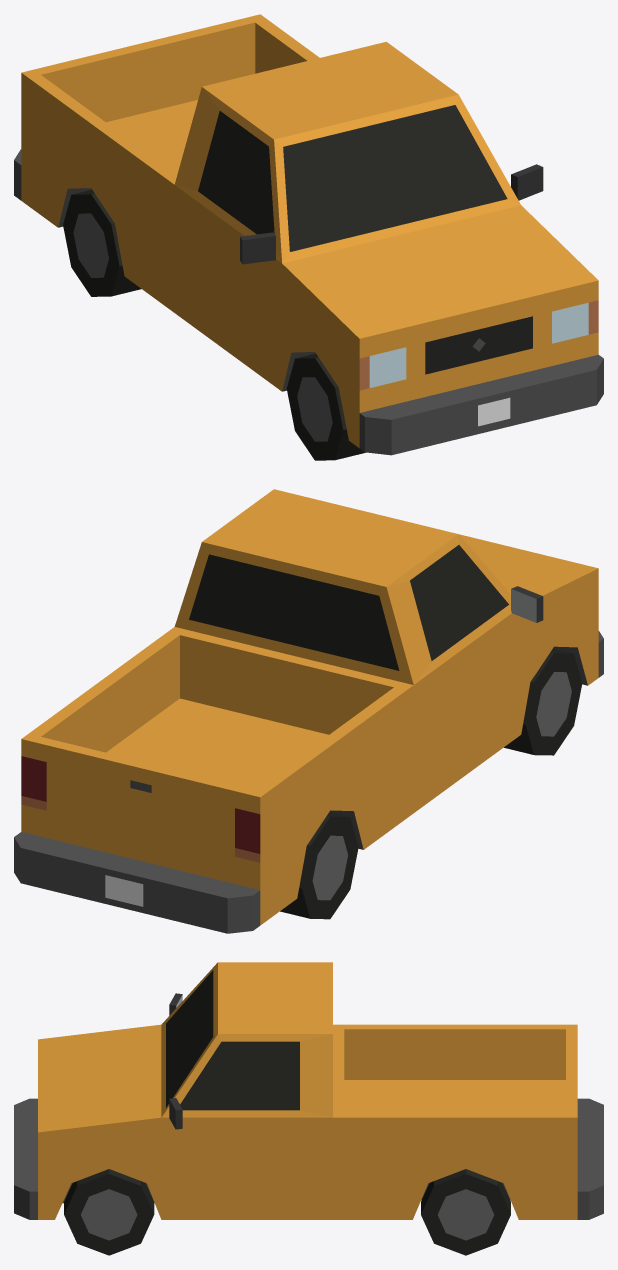
Rendered from Veh_Pickup_01_Yellow.obj.
3 renders of one model, top to bottom at view 1: azimuth 30°, elevation 25°; view 2: azimuth 150°, elevation 25°; view 3: azimuth 270°, elevation 25°, orthographic. The views are drawn at different scales.
Size of the model in its own units: 1.34 by 1.12 by 2.85.
